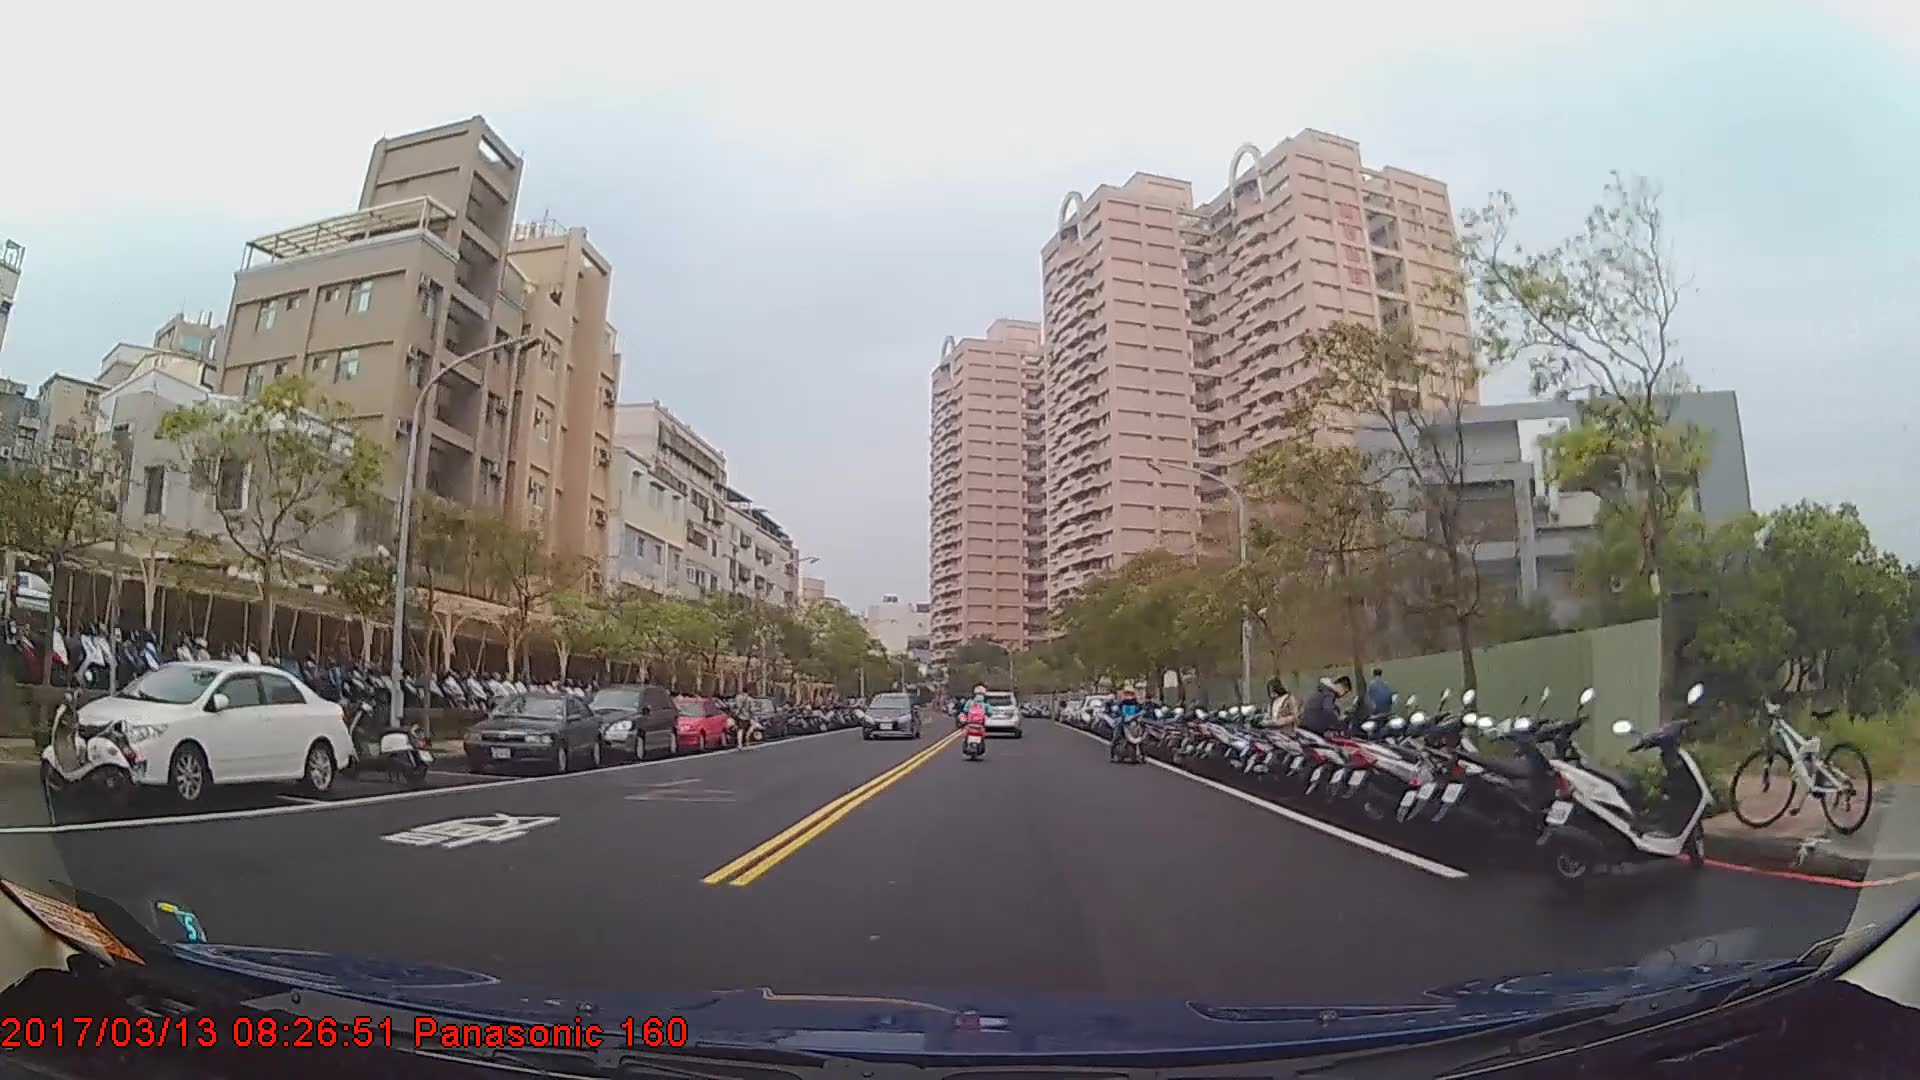pedestrian: (1299, 674, 1359, 797), (1258, 678, 1305, 798), (1365, 668, 1396, 750), (730, 686, 761, 752)
rider: (1109, 685, 1150, 766), (962, 685, 992, 756)
vehicle: (63, 658, 350, 808), (460, 691, 605, 776), (579, 683, 679, 759), (646, 692, 729, 749), (861, 687, 920, 738), (967, 689, 1021, 736)
